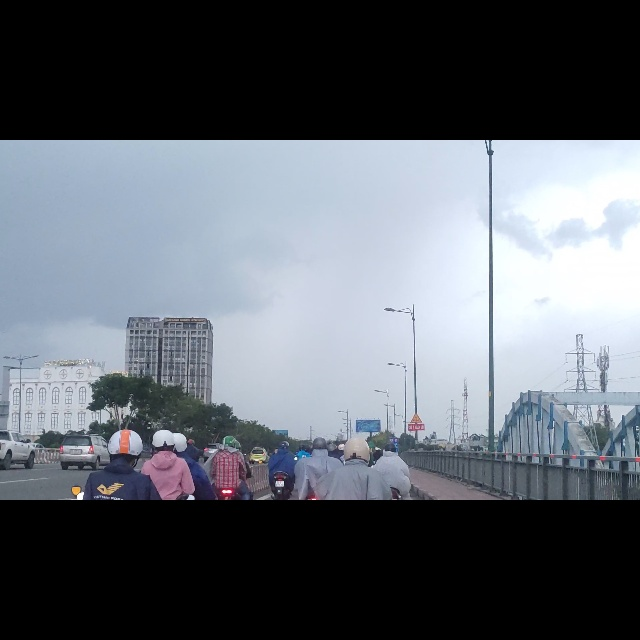bien_cam: (409, 484, 423, 503)
